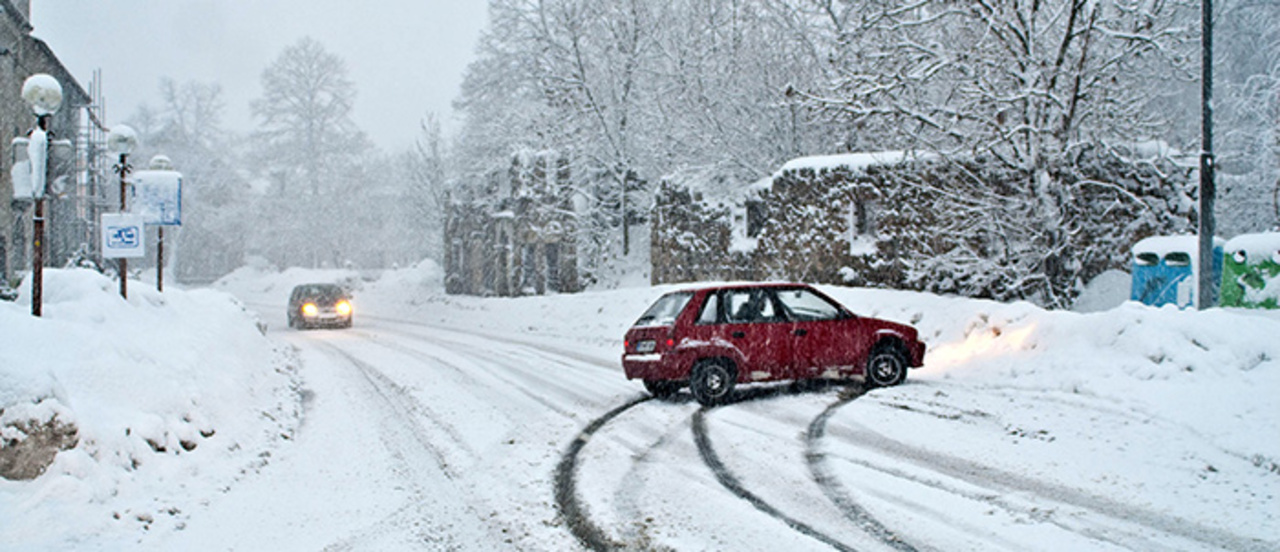car: (623, 283, 923, 401), (286, 281, 356, 330)
